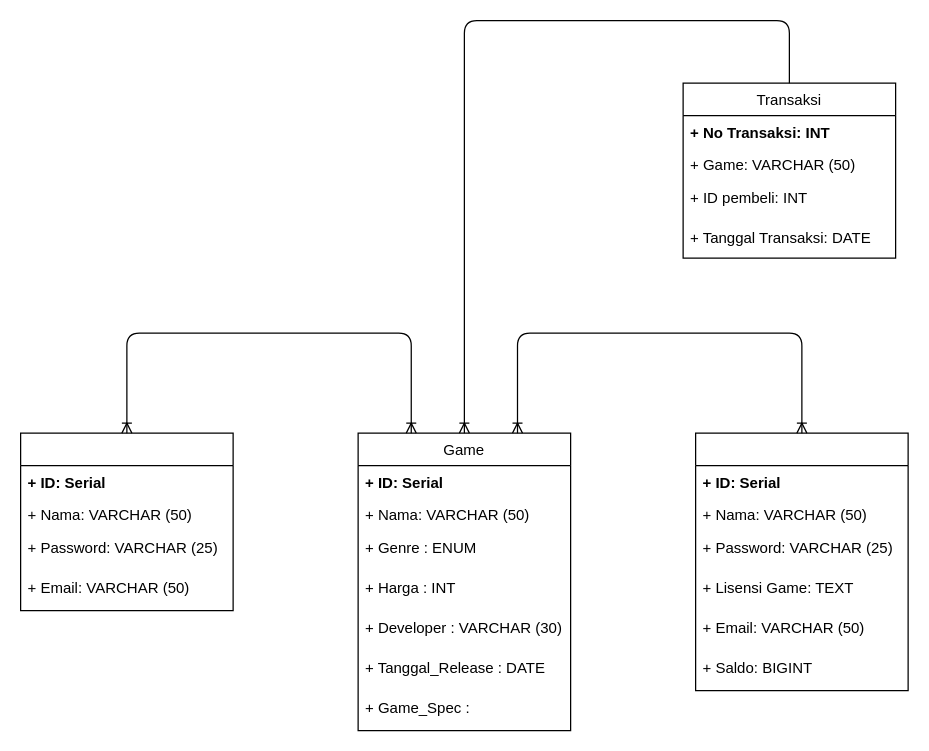
This 929x751 diagram has some shape labels left out. The shapes that lost their labels are listed below. From the top down, each one's box as (x1, y1, x2, y2) in pixels, then its label:
(19, 432, 233, 611): Admin Account
(694, 432, 908, 691): User Account
